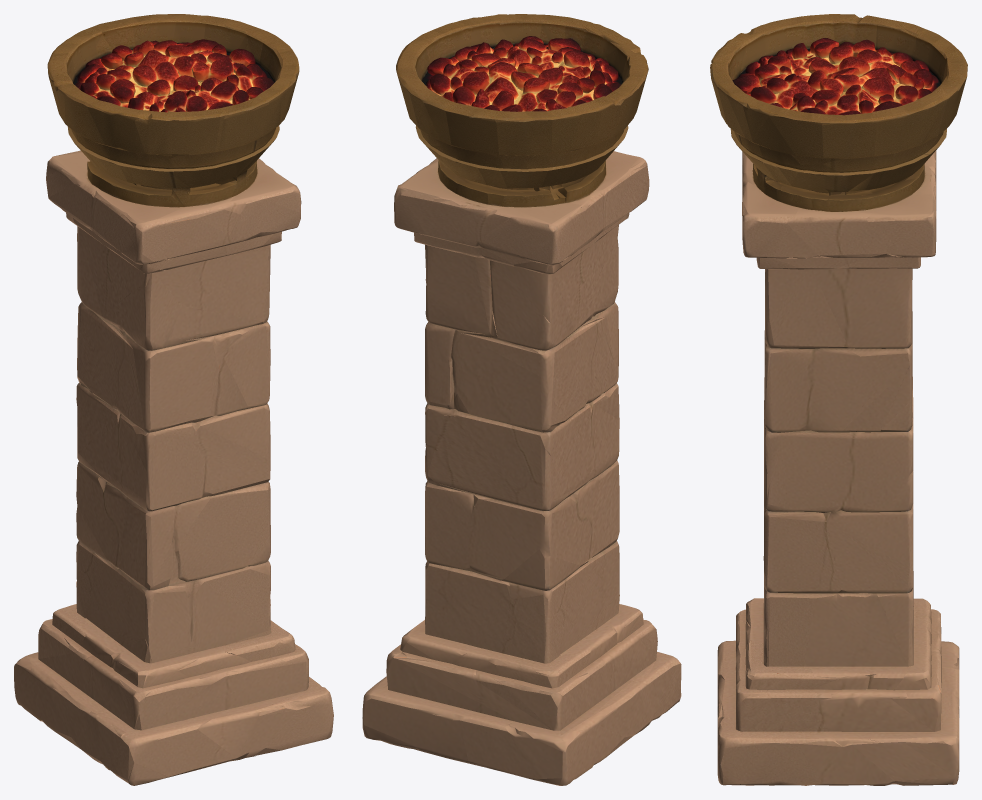
The model's file is column_brazier.glb.
The picture shows the model from 3 angles, left to right: view 1: azimuth 30°, elevation 25°; view 2: azimuth 150°, elevation 25°; view 3: azimuth 270°, elevation 25°; orthographic projection. The views are drawn at different scales.
Size of the model in its own units: 0.665 by 1.9 by 0.6646.
Materials: 1 (1 with a texture image).
